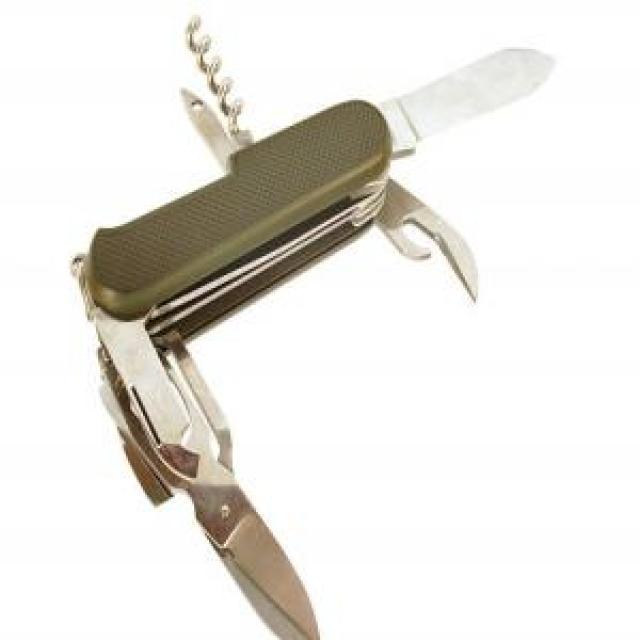knife: (75, 43, 561, 638)
